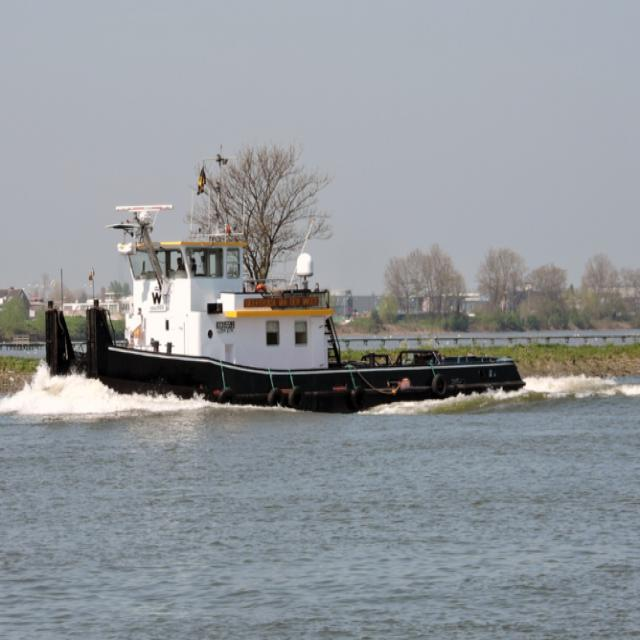tugboat: (42, 202, 530, 428)
